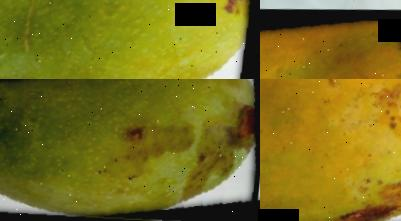PartiallyRipe: (260, 79, 401, 221)
Ripe: (260, 10, 401, 79)
Unripe: (0, 79, 260, 221), (0, 0, 260, 79)
